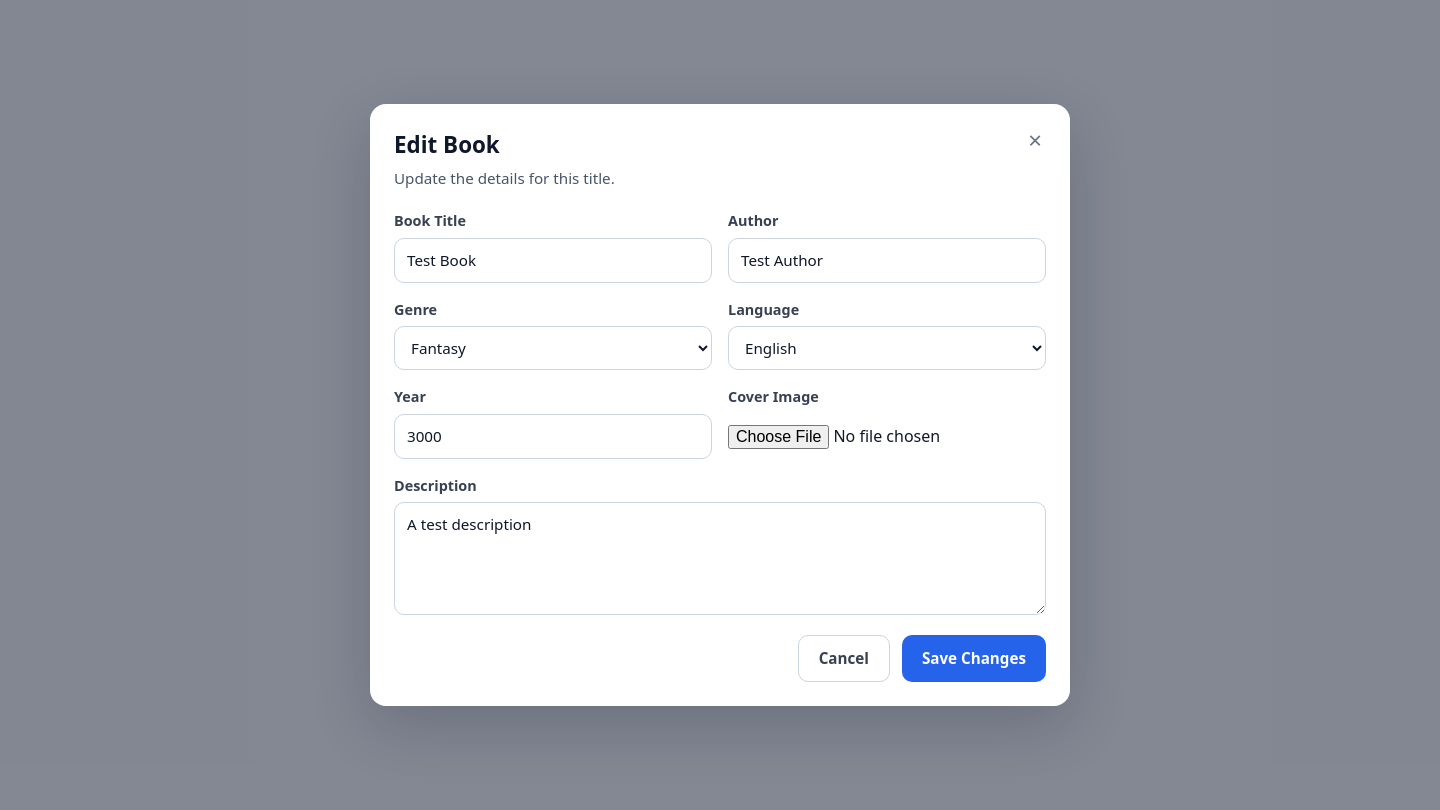
Test: EditBookForm › shows validation error for year out of range
Click the button "Save Changes": [974, 659] box [902,635,1046,682]
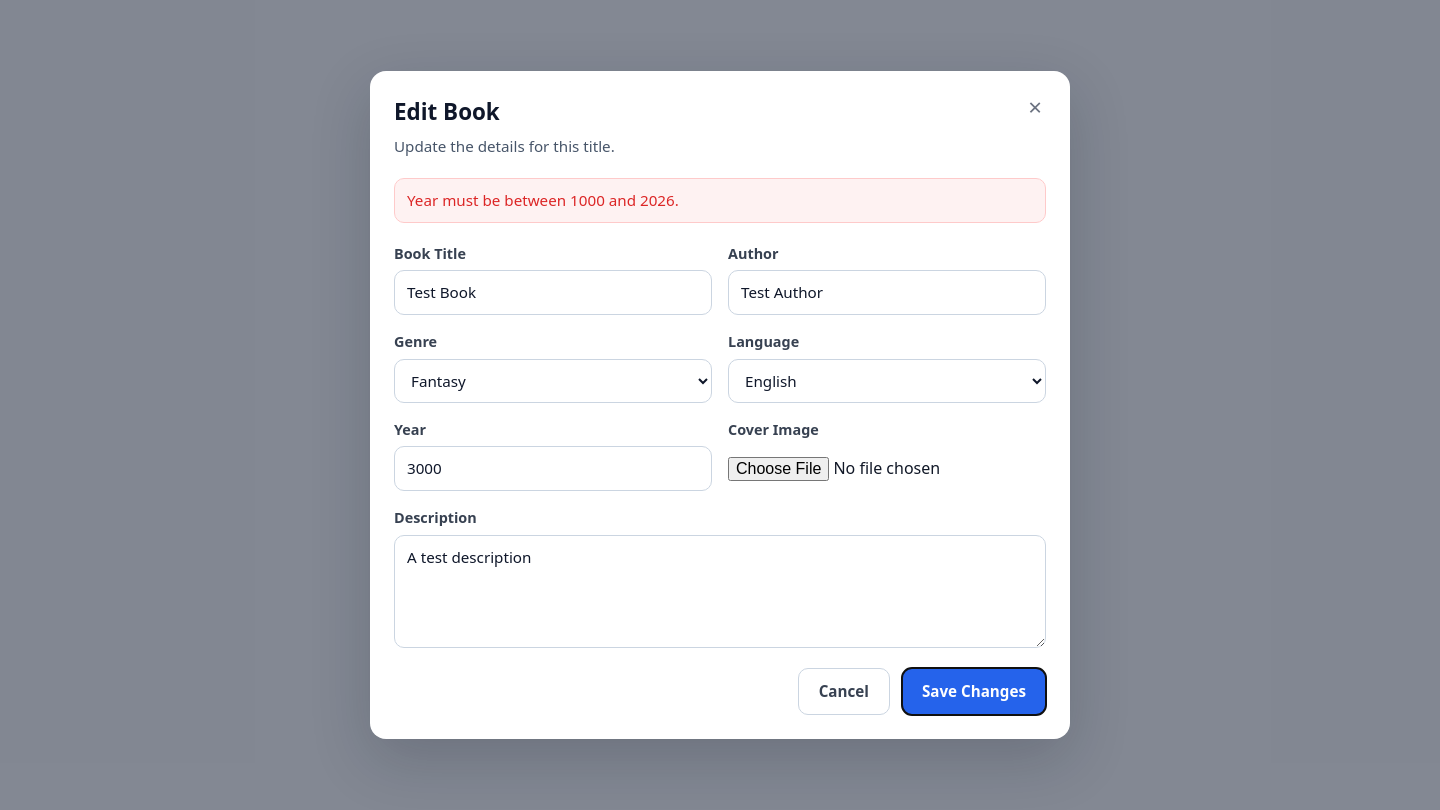
Check: the text "Year must be between 1000 and 2026." is shown, box [394,178,1046,223]
